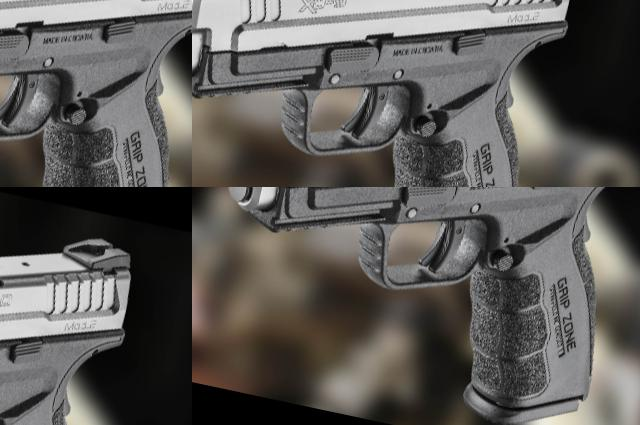handgun: (192, 187, 640, 425), (254, 0, 457, 77), (0, 0, 59, 24), (0, 187, 20, 195)
